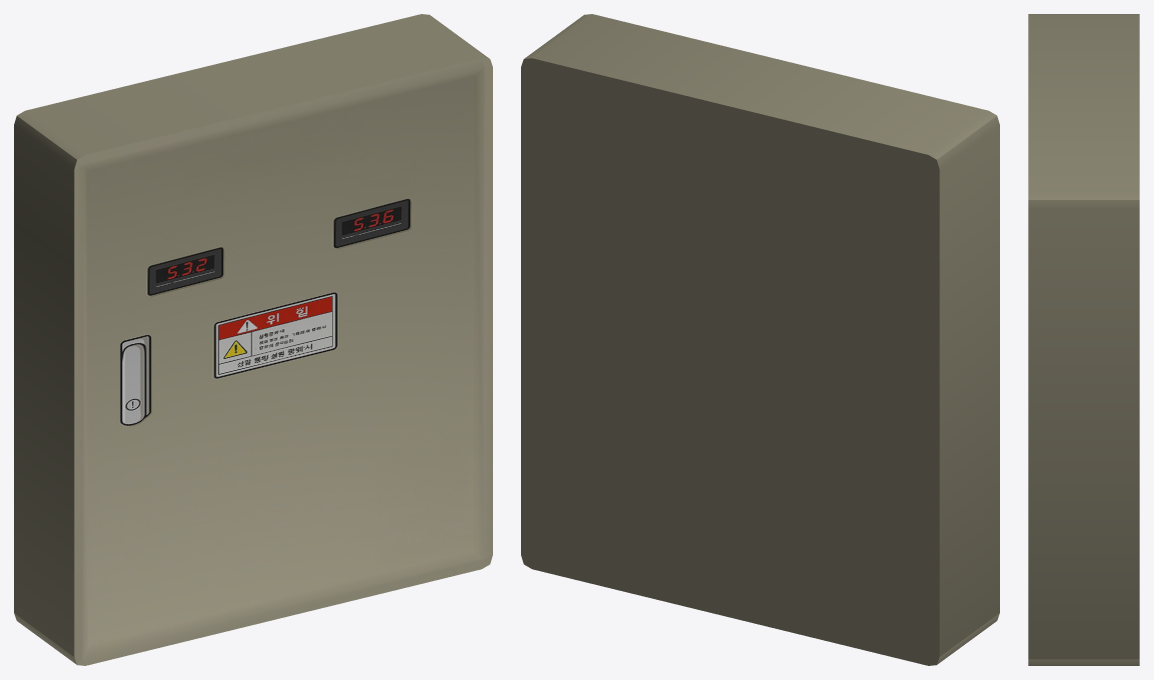
3 renders of one model, left to right at view 1: azimuth 30°, elevation 25°; view 2: azimuth 150°, elevation 25°; view 3: azimuth 270°, elevation 25°, orthographic. The views are drawn at different scales.
Visible parts, largest first — view 1: PLC본체(전원환경감시)032; view 2: PLC본체(전원환경감시)032; view 3: PLC본체(전원환경감시)032.
Part boxes in pixels (<box>): PLC본체(전원환경감시)032: <box>14,14,492,665</box>; PLC본체(전원환경감시)032: <box>521,14,999,665</box>; PLC본체(전원환경감시)032: <box>1028,14,1139,665</box>.
Size of the model in its own units: 0.6 by 0.7 by 0.15.
Materials: 2 (1 with a texture image).
